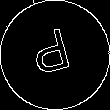P_S: (30, 26, 80, 84)
